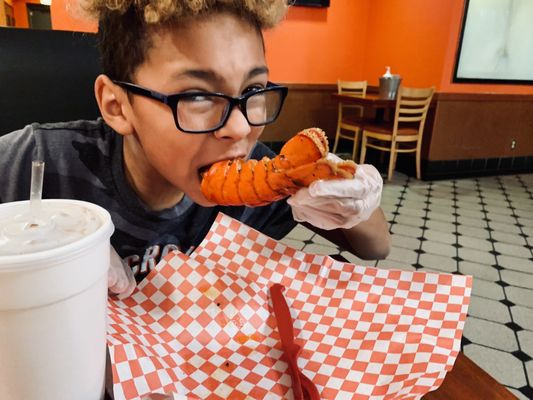pizza: (0, 198, 115, 399)
